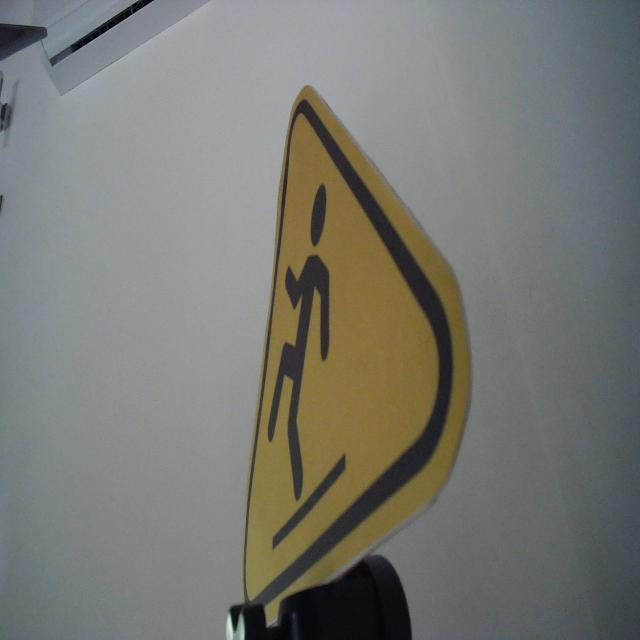slippery_sign: (238, 82, 476, 625)
